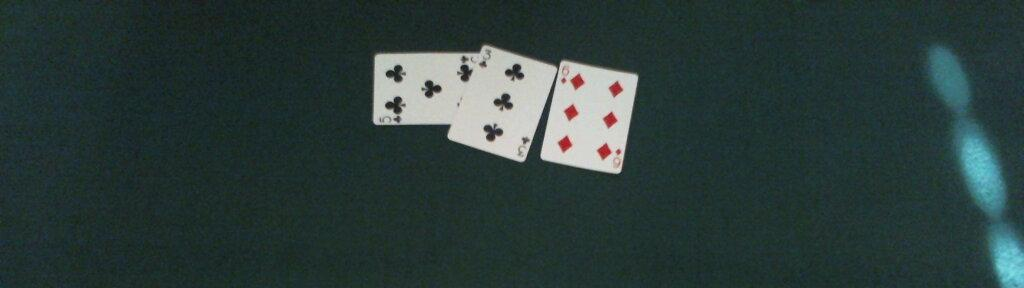five: (372, 52, 480, 125)
six: (541, 60, 639, 174)
three: (446, 44, 557, 162)
